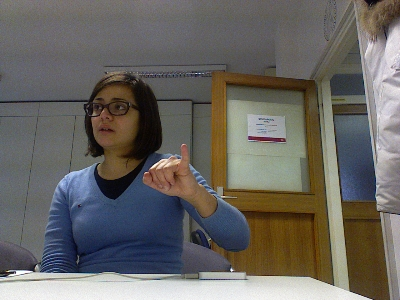小指: (141, 143, 195, 197)
